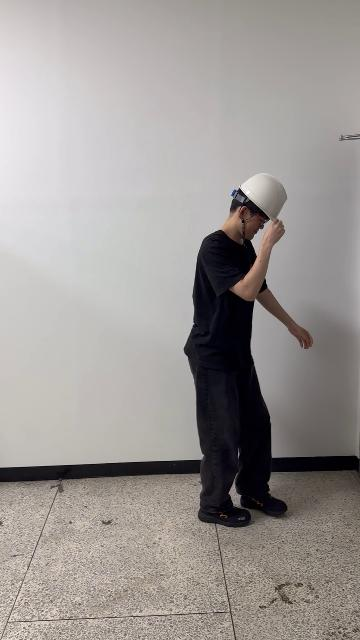helmet_worn: (235, 173, 288, 221)
shoe_worn: (198, 504, 250, 527), (240, 492, 287, 515)
vest_not_worn: (192, 233, 262, 384)
